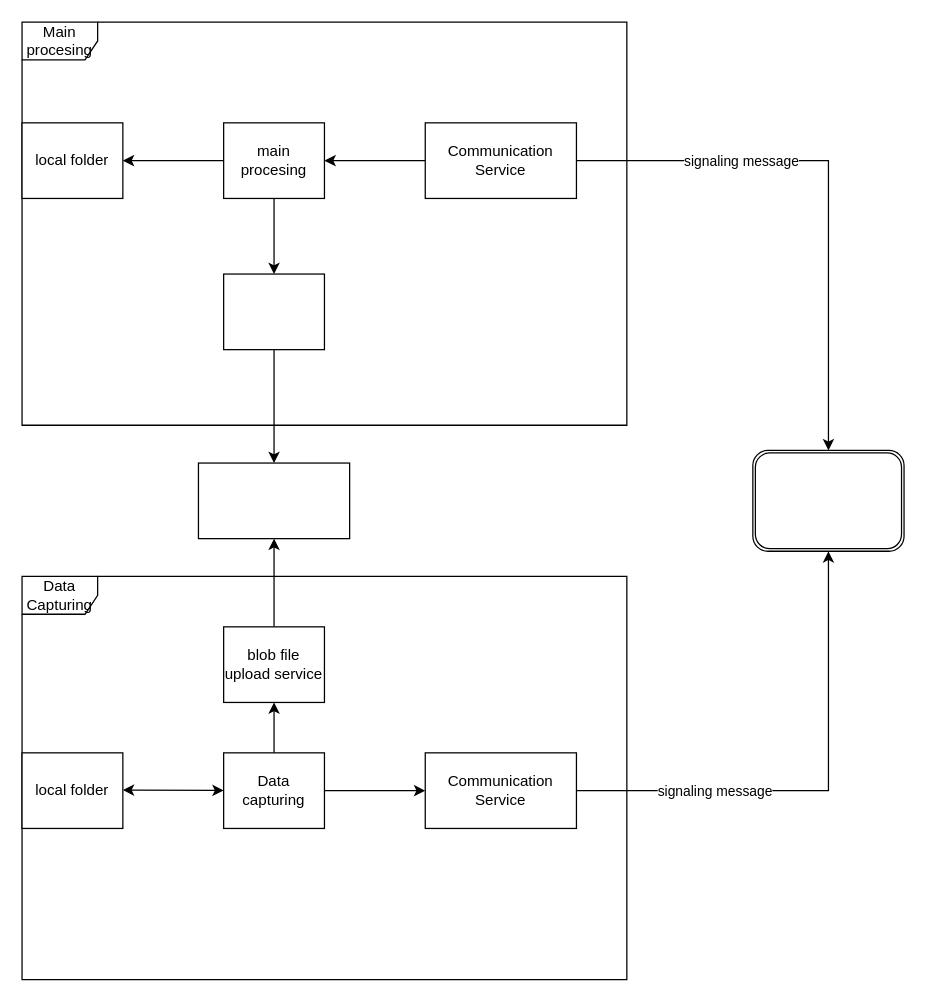
Image size: 926x1002. Some labels were removed from this diagram. The centre of each missing label's shape, as x and y in pixels:
"Azure blob Storage" belongs at (x=273, y=500).
"Azure service bus" belongs at (x=828, y=500).
"blob file download service" belongs at (x=273, y=311).
